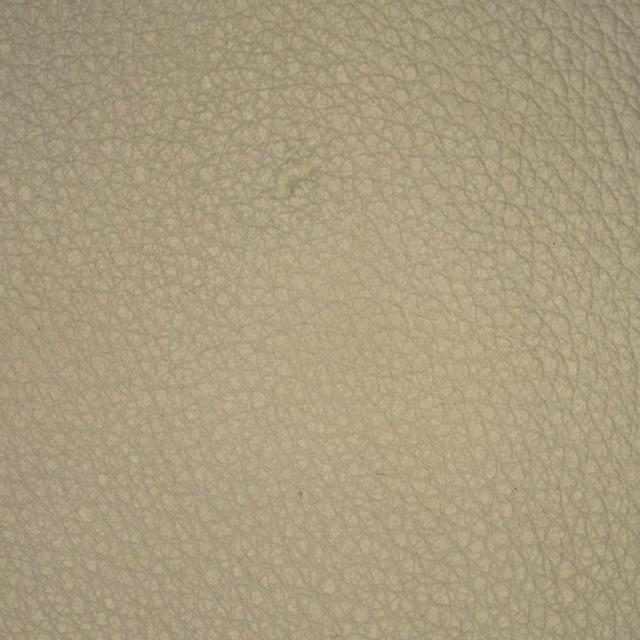Hole: (221, 119, 362, 233)
